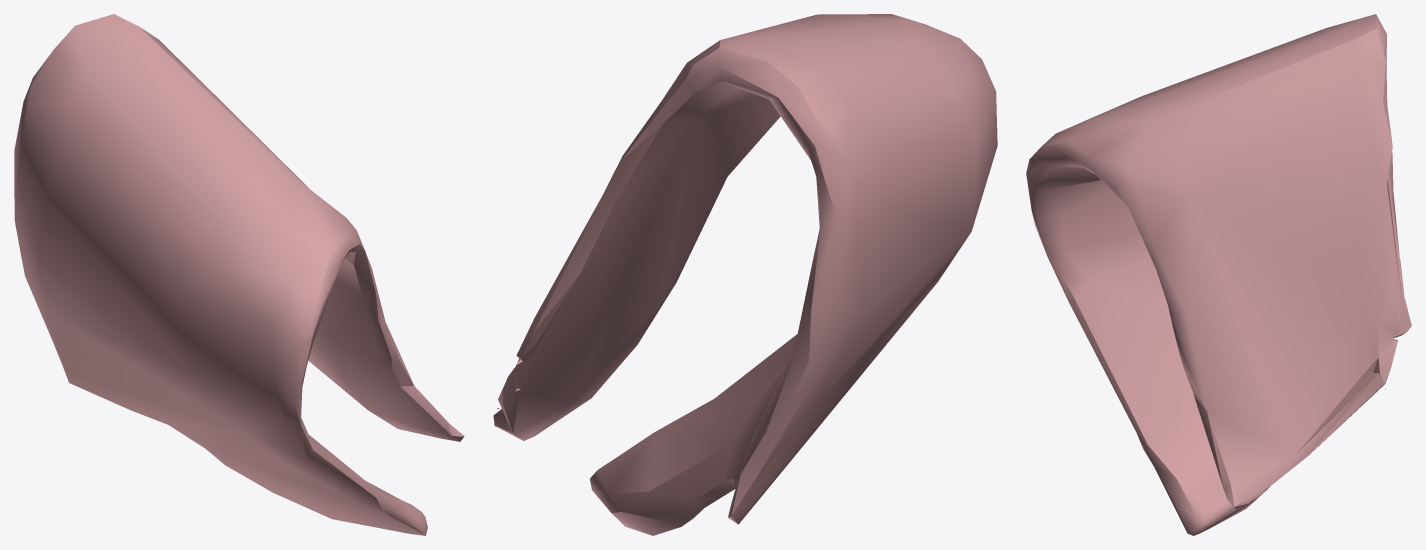
File: fma258850_fj1581.glb
The picture shows the model from 3 angles, left to right: view 1: azimuth 30°, elevation 25°; view 2: azimuth 150°, elevation 25°; view 3: azimuth 270°, elevation 25°; orthographic projection. The views are drawn at different scales.
Parts seen in each view (by area): view 1: FMA258850_FJ1581; view 2: FMA258850_FJ1581; view 3: FMA258850_FJ1581.
Part boxes in pixels (left/top/right/bottom): FMA258850_FJ1581: left=14, top=14, right=464, bottom=535; FMA258850_FJ1581: left=493, top=14, right=997, bottom=535; FMA258850_FJ1581: left=1026, top=14, right=1411, bottom=535.
Size of the model in its own units: 0.00627 by 0.00793 by 0.00657.
